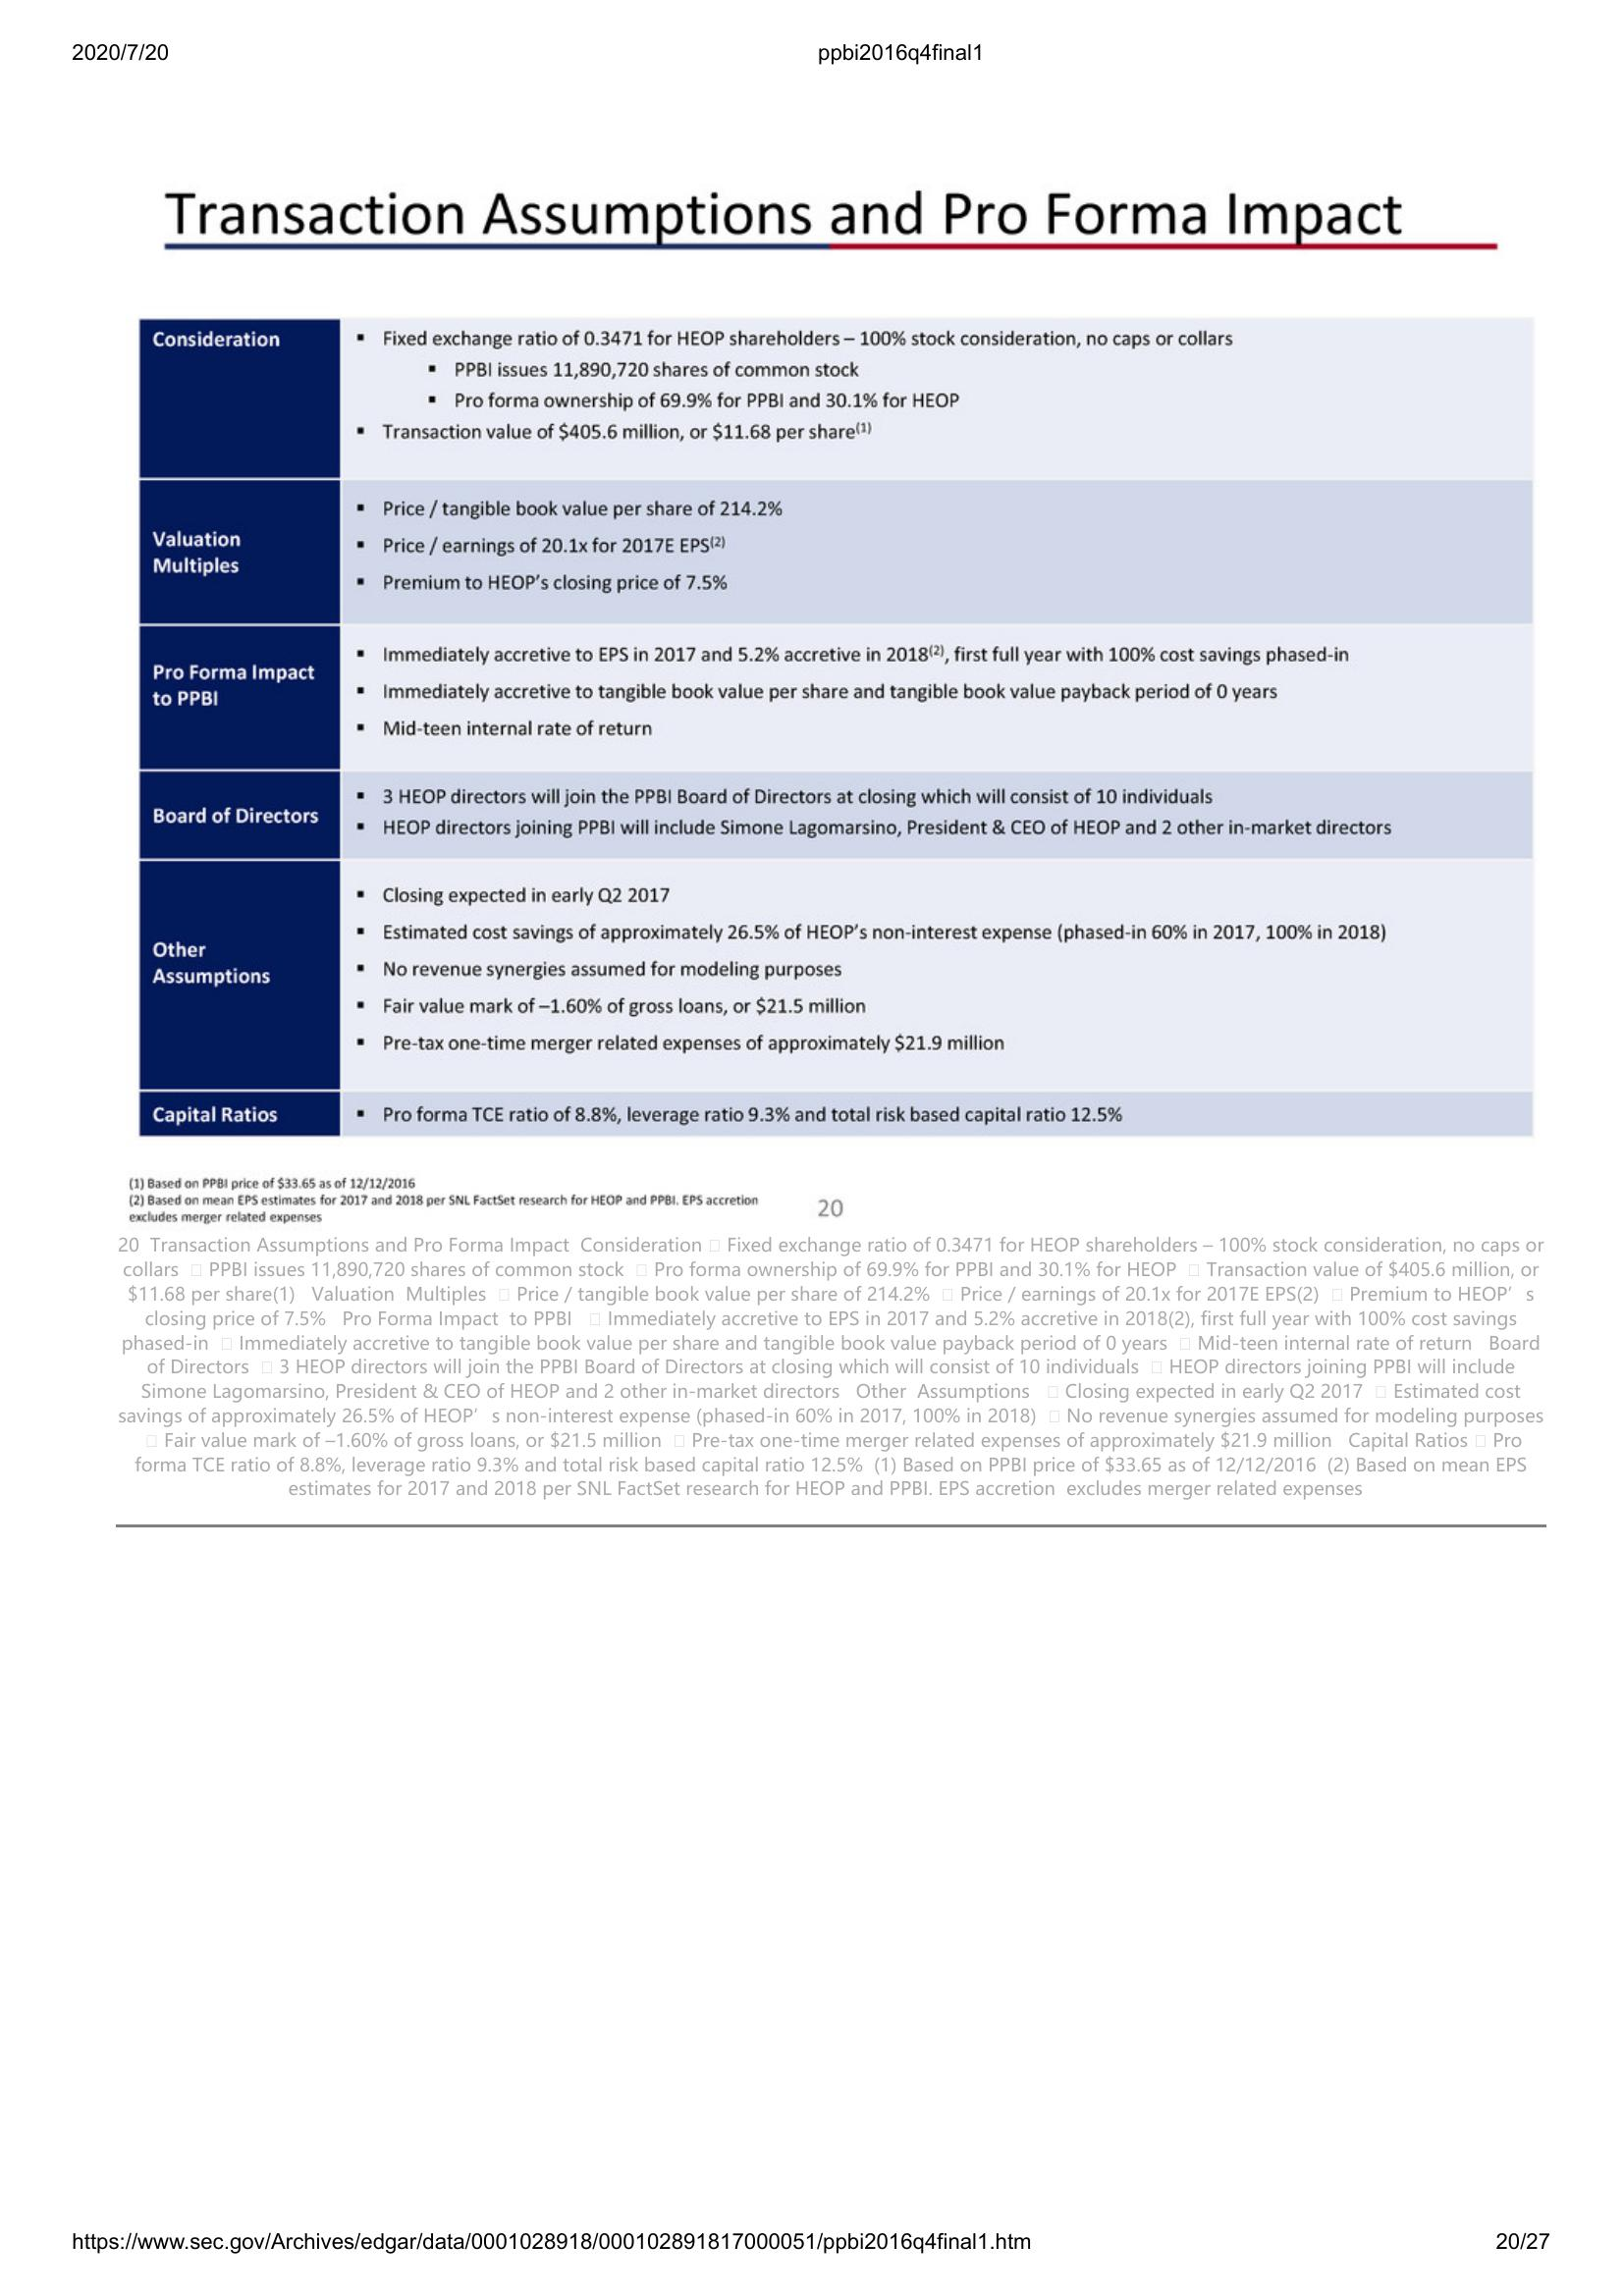table: (135, 311, 1540, 1141)
